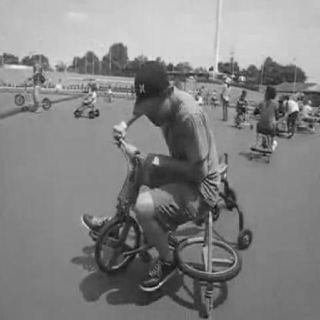other: (210, 147, 234, 183)
